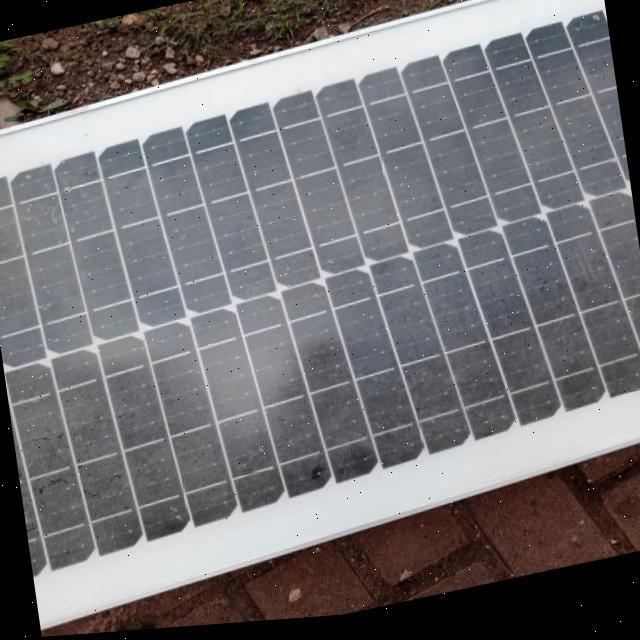Surface Contaminant: (0, 28, 640, 558)
